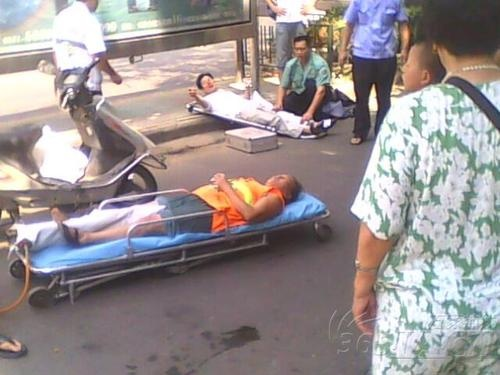falling: (183, 64, 335, 139)
